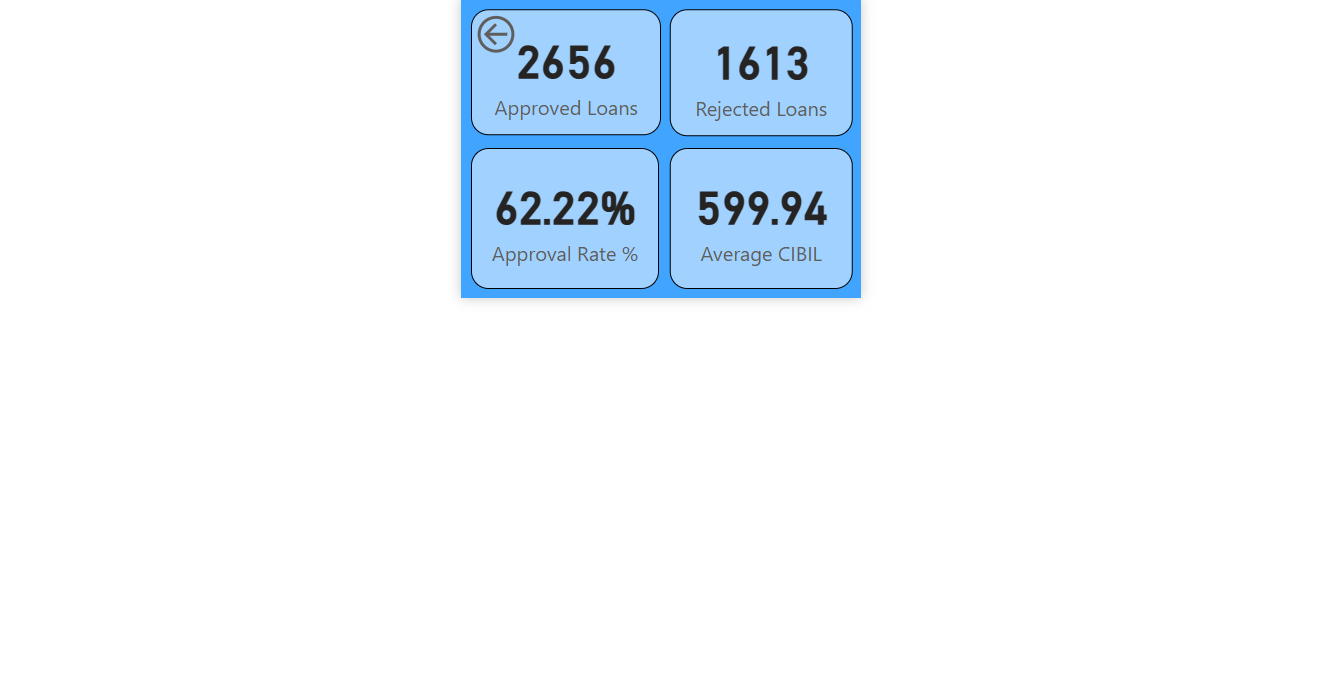

Layout of this report page (visuals, bound fields, positions):
{"tool":"powerbi","page":{"name":"Tooltip Page","canvas":[320,240],"ordinal":1},"visuals":[{"type":"card","fields":{"Values":["loan_approval_dataset.Approved Loans"]},"box":[8,9,152,101],"z":0},{"type":"card","fields":{"Values":["loan_approval_dataset.Rejected Loans"]},"box":[167,9,146,102],"z":1000},{"type":"card","fields":{"Values":["loan_approval_dataset.Approval Rate %"]},"box":[8,120,150,113],"z":2000},{"type":"card","fields":{"Values":["loan_approval_dataset.Average CIBIL"]},"box":[167,120,146,113],"z":3000},{"type":"actionButton","box":[8,9,100,40],"z":4000}]}

Visuals, with their boxes on the page's 320x240 design canvas (x1, y1, x2, y2). These are canvas units, not pixel positions in the 1340x675 screenshot, which may show the page scaled, cropped or inside an application window:
card - loan_approval_dataset.Approved Loans: [x1=8, y1=9, x2=160, y2=110]
card - loan_approval_dataset.Rejected Loans: [x1=167, y1=9, x2=313, y2=111]
card - loan_approval_dataset.Approval Rate %: [x1=8, y1=120, x2=158, y2=233]
card - loan_approval_dataset.Average CIBIL: [x1=167, y1=120, x2=313, y2=233]
actionButton: [x1=8, y1=9, x2=108, y2=49]
